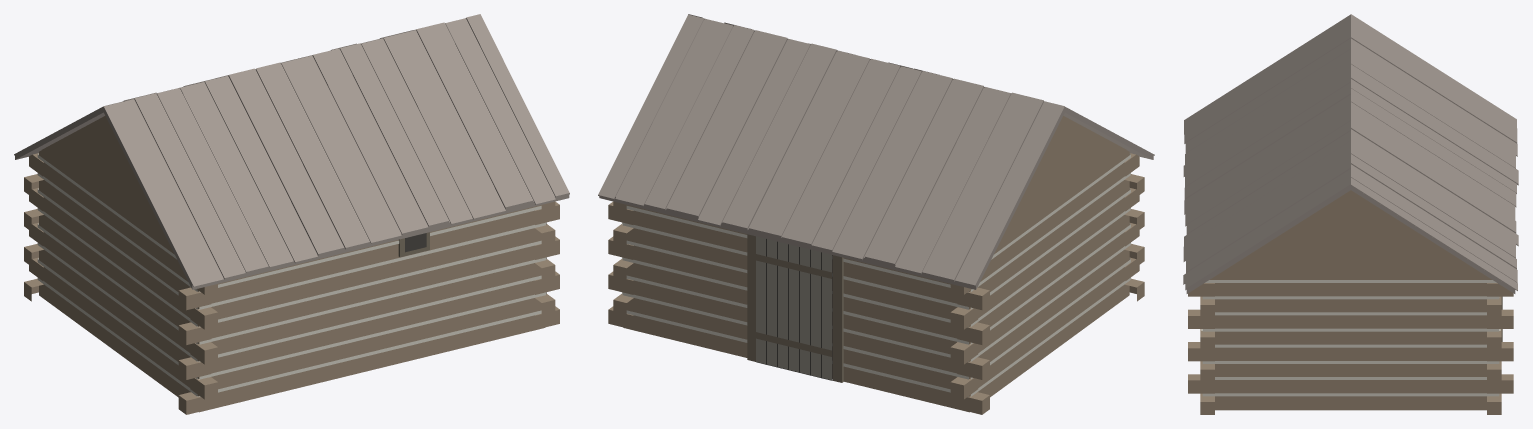
The model's file is beaubien_barn__converted_1817.glb.
The picture shows the model from 3 angles, left to right: view 1: azimuth 30°, elevation 25°; view 2: azimuth 150°, elevation 25°; view 3: azimuth 270°, elevation 25°; orthographic projection. The views are drawn at different scales.
Parts seen in each view (by area): view 1: beaubien_barn__converted_1817; view 2: beaubien_barn__converted_1817; view 3: beaubien_barn__converted_1817.
Boxes of the visible parts, box(x1,y1,x2,y2) form: beaubien_barn__converted_1817: box(14, 14, 569, 414); beaubien_barn__converted_1817: box(598, 14, 1154, 414); beaubien_barn__converted_1817: box(1183, 14, 1518, 414).
Bounding box in the file's own units: 6.63 × 4.24 × 5.52.
1 material, 1 textured.
